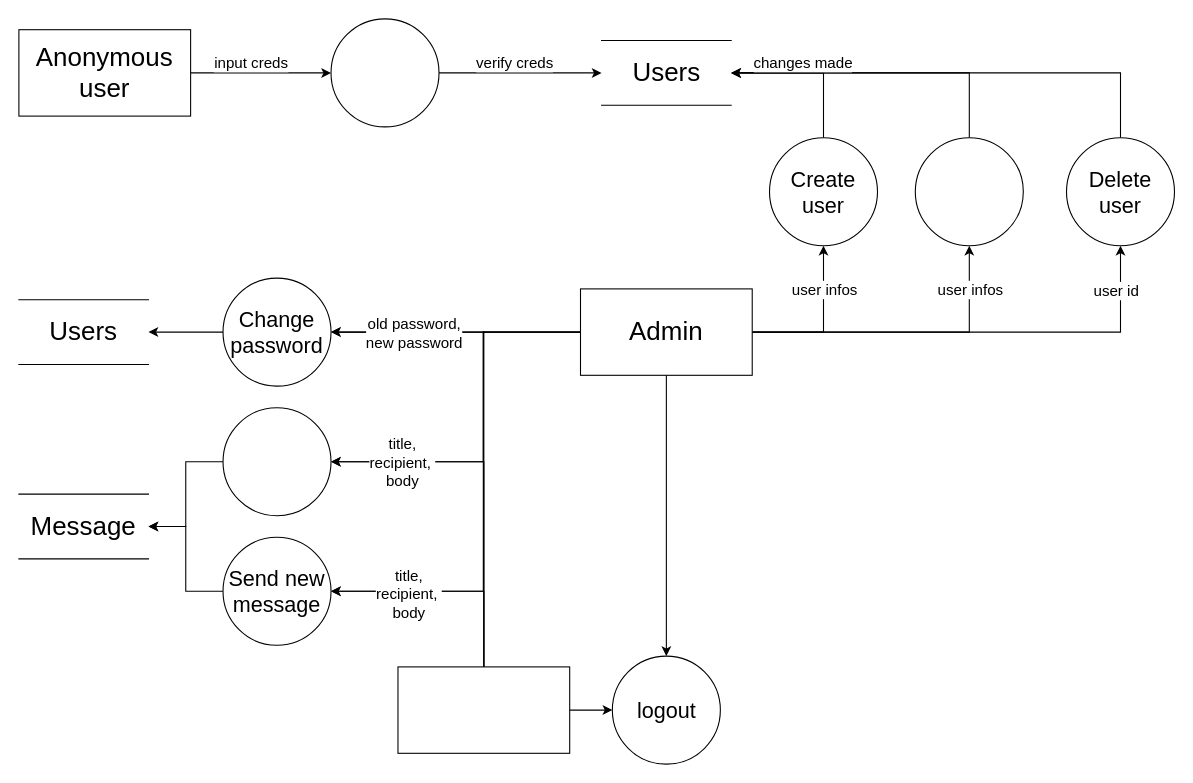
This 1193x783 diagram has some shape labels left out. The centre of each missing label's shape, as x and y in pixels:
"Answer message" belongs at [276,461].
"Collaborator" belongs at [483,709].
"login" belongs at [384,72].
"Modify user" belongs at [968,191].
